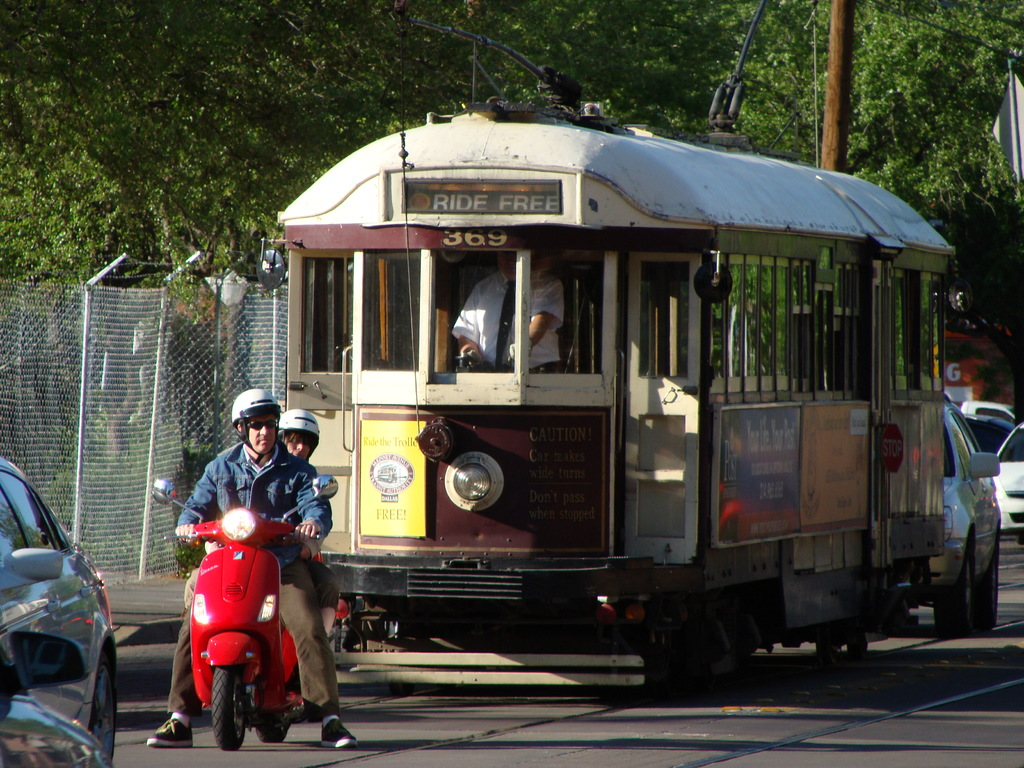motor: (162, 483, 310, 751)
